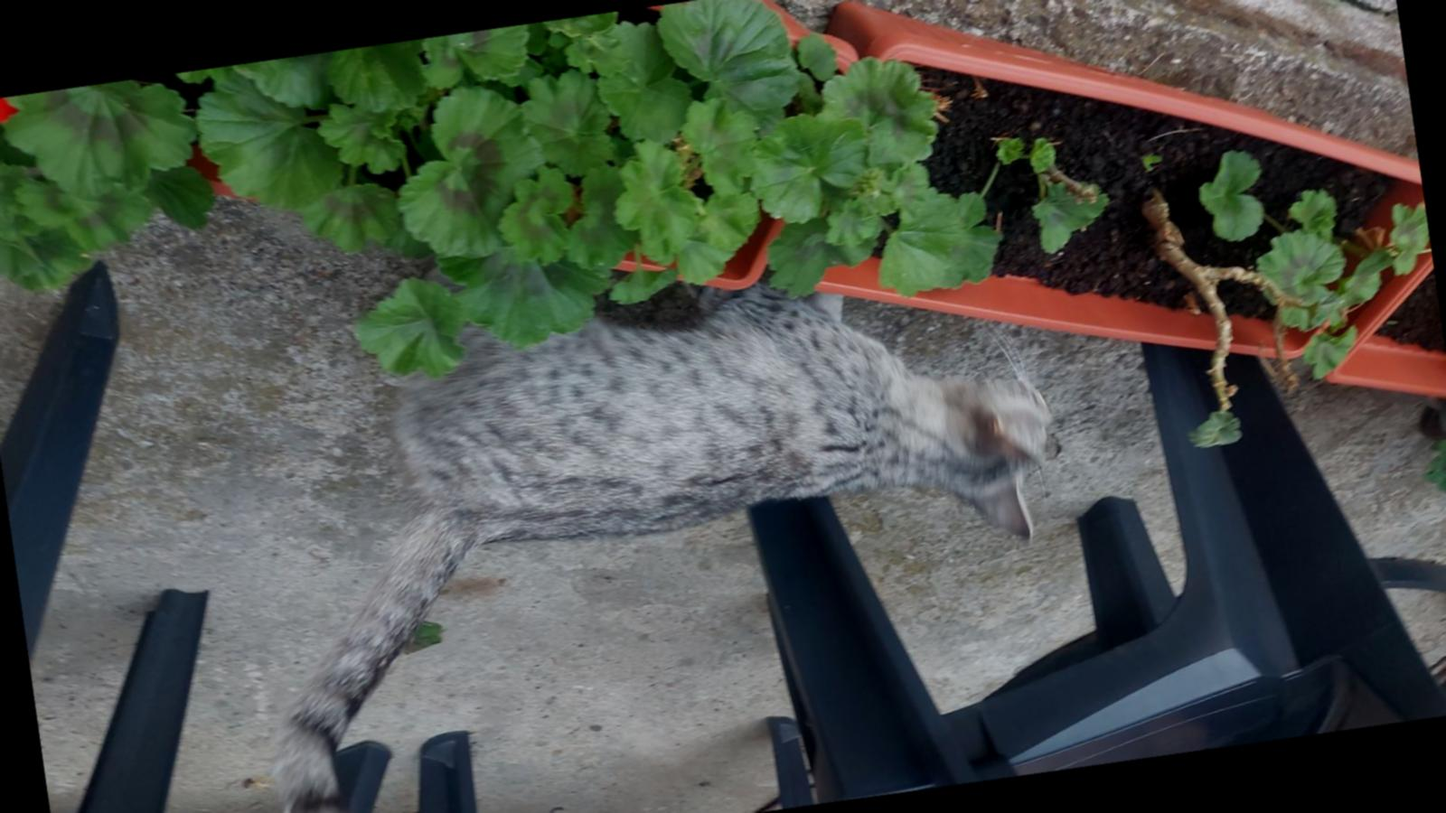macka: (198, 172, 1110, 813)
